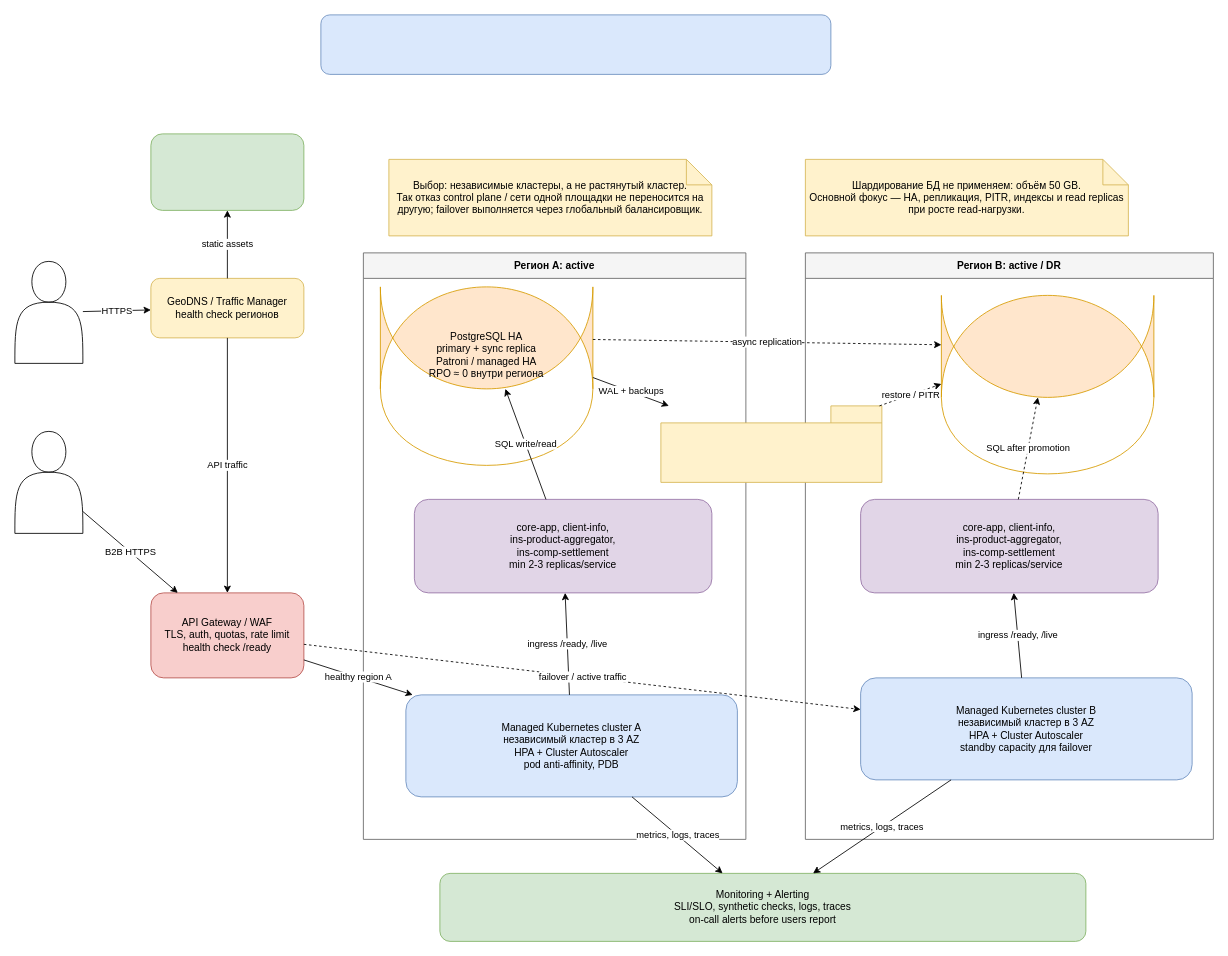
This 1228x956 diagram has some shape labels left out. The box of each missing label's shape, as (x1, y1, x2, y2) in pixels:
B2B-партнёры API clients: (14, 431, 83, 533)
Backups / WAL archive PITR, encrypted object storage regular restore drills: (660, 405, 882, 482)
CDN статический контент одинаковая скорость загрузки: (150, 133, 304, 210)
InureTech: целевая технологическая архитектура SLA 99,9%, RTO 45 мин, RPO 15 мин: (320, 14, 831, 74)
PostgreSQL async replica cross-region DR RPO ≤ 15 мин readiness for promotion: (941, 295, 1154, 397)
Пользователи РФ Web / Mobile: (14, 261, 83, 363)
